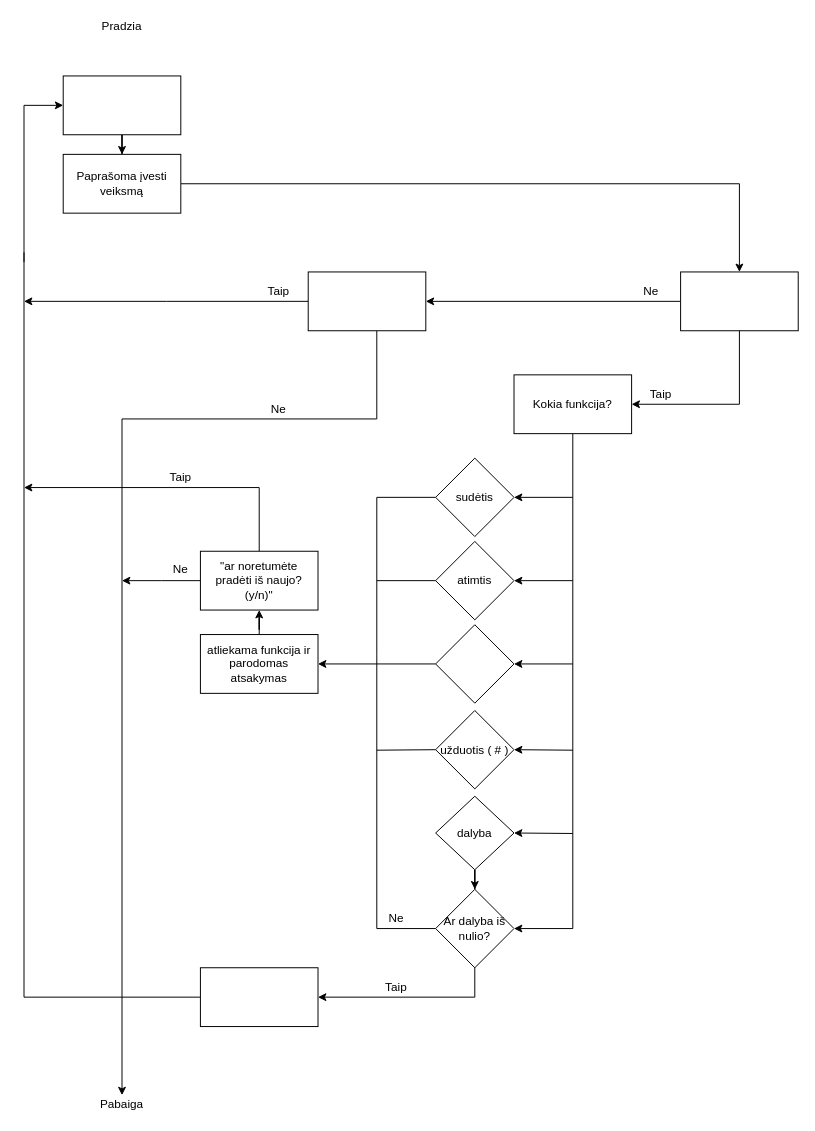
The diagram is 815 pixels wide and 1131 high, and some of its shapes have lost their labels. Each missing label, with the centre of its shape:
"dalyba iš nulio yra negalima, ar norite pradėti iš naujo? (y/n)": (258,997)
"funkcija netinkama, ar norite bandyti iš naujo? (y/n)": (366,301)
Ar funkcija tinkama?: (739,301)
daugyba: (474,663)
Paprašoma įvesti pirmą ir antrą skaičius: (121,105)
